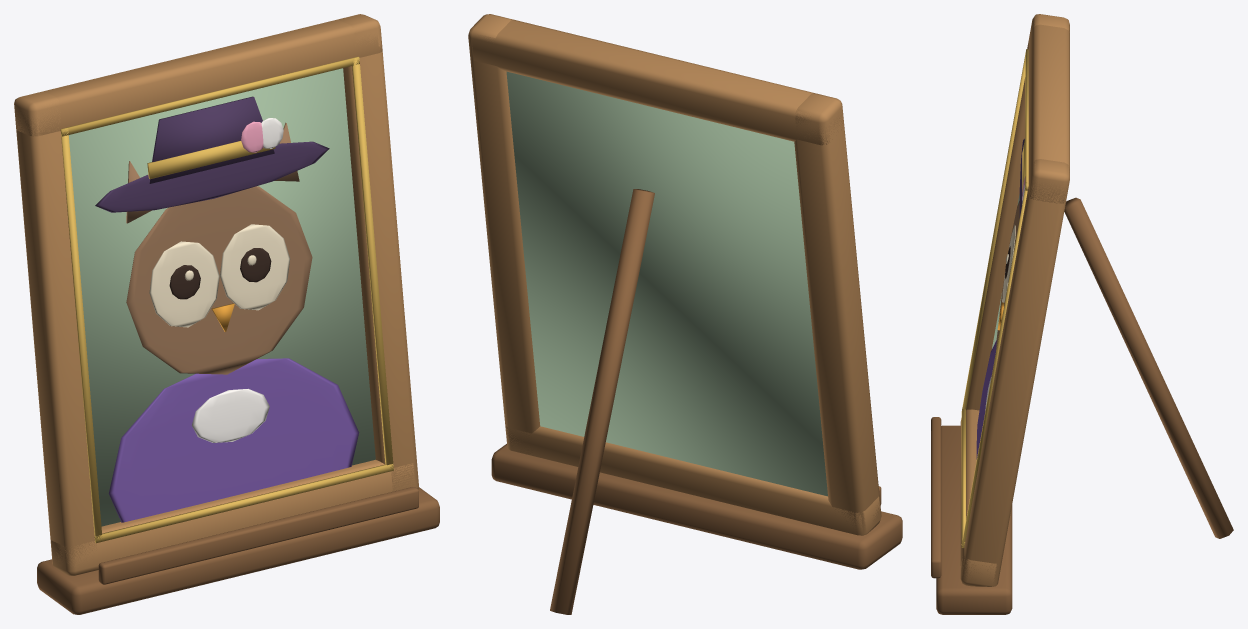
The model's file is art-owl-lady.glb.
3 views of the same model, side by side, from view 1: azimuth 30°, elevation 25°; view 2: azimuth 150°, elevation 25°; view 3: azimuth 270°, elevation 25° (orthographic). The views are drawn at different scales.
Visible parts, largest first — view 1: art; view 2: art; view 3: art.
Part boxes in pixels (x1,y1,x2,y2): art: [14, 14, 439, 614]; art: [468, 14, 902, 614]; art: [931, 14, 1233, 614].
Size of the model in its own units: 0.47 by 0.5818 by 0.3581.
